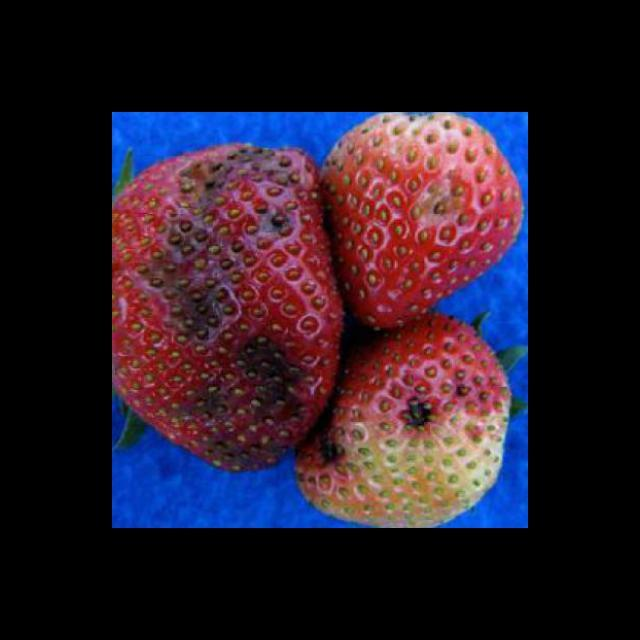Anthracnose Fruit Rot: (125, 142, 316, 473), (403, 172, 481, 240), (394, 389, 445, 439)
